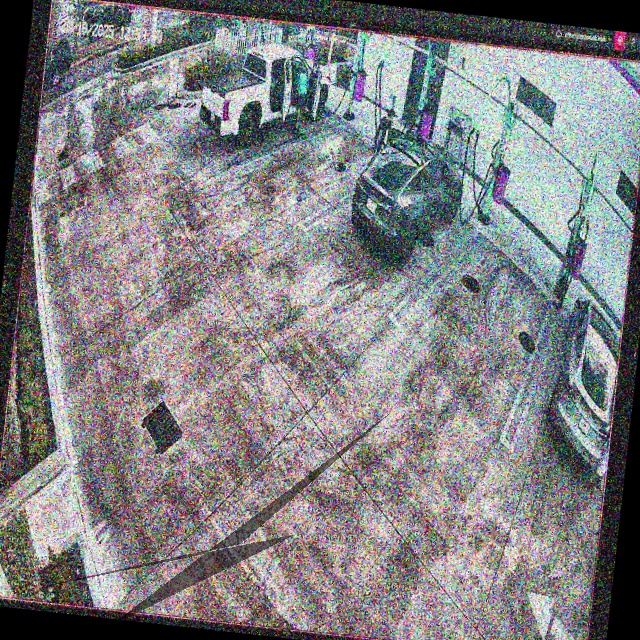Car: (347, 131, 468, 270)
